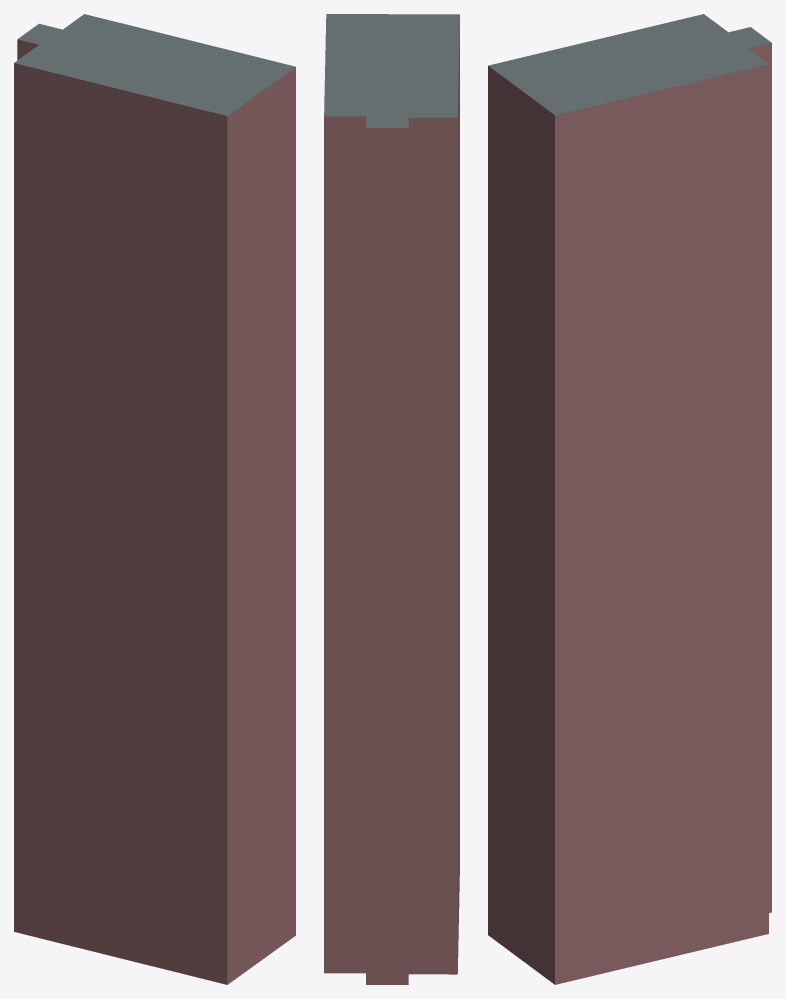
The model's file is nyc-1080614-0.glb.
The picture shows the model from 3 angles, left to right: view 1: azimuth 30°, elevation 25°; view 2: azimuth 150°, elevation 25°; view 3: azimuth 270°, elevation 25°; orthographic projection.
Visible parts, largest first — view 1: nyc-1080614-0; view 2: nyc-1080614-0; view 3: nyc-1080614-0.
Boxes of the visible parts, box(x1,y1,x2,y2) form: nyc-1080614-0: box(14, 14, 295, 984); nyc-1080614-0: box(324, 14, 459, 984); nyc-1080614-0: box(488, 14, 771, 984).
Size of the model in its own units: 25.69 by 103 by 30.39.
